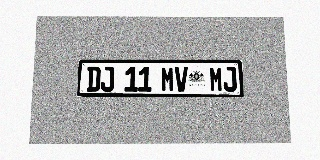1: (124, 67, 138, 92), (138, 67, 152, 92)
D: (87, 67, 101, 92)
J: (100, 67, 114, 92), (223, 67, 237, 92)
M: (209, 67, 223, 92), (161, 67, 174, 92)
V: (175, 67, 188, 92)
